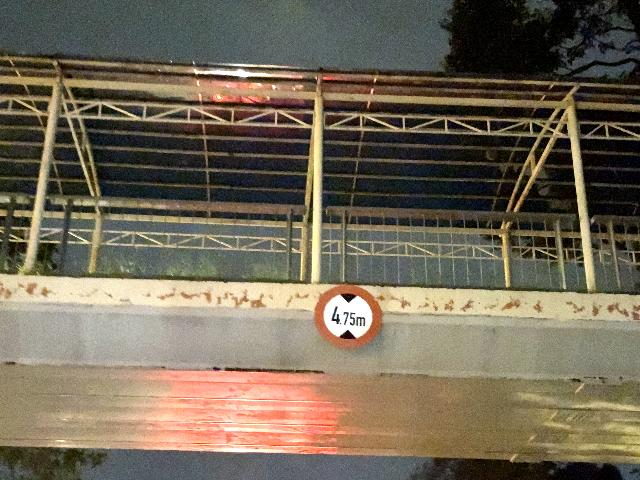han-che-chieu-cao: (314, 284, 382, 350)
